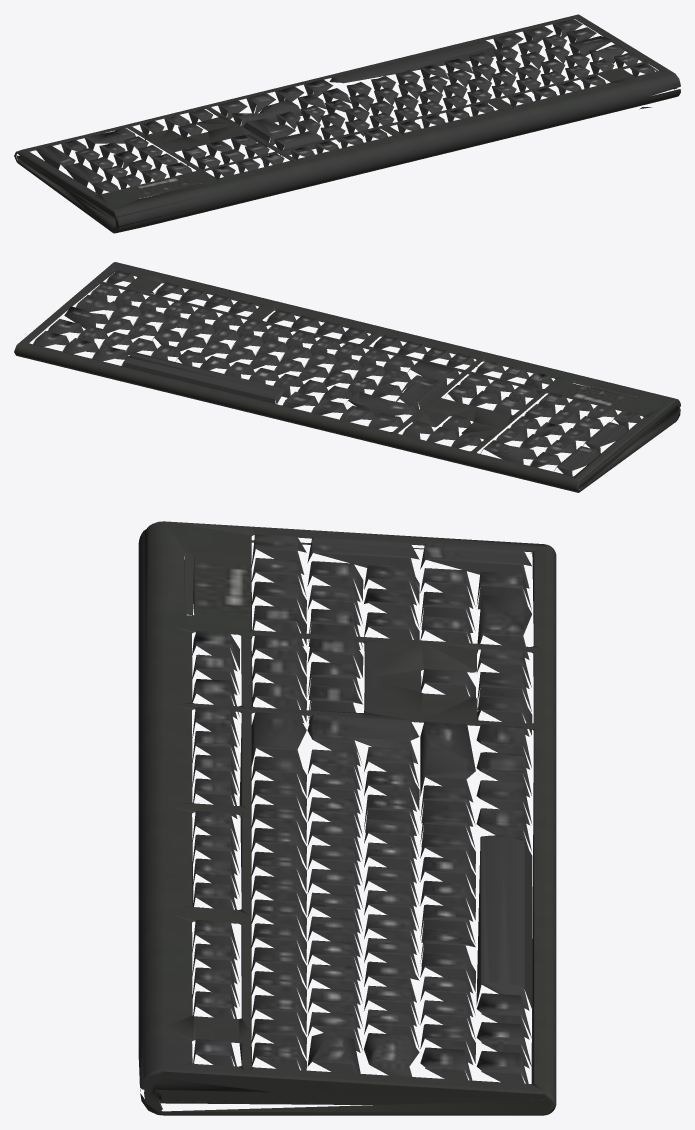
Rendered from computer_keyboard_a01.glb.
The picture shows the model from 3 angles, top to bottom: view 1: azimuth 30°, elevation 25°; view 2: azimuth 150°, elevation 25°; view 3: azimuth 270°, elevation 25°; orthographic projection. The views are drawn at different scales.
Visible parts, largest first — view 1: sm_computer_keyboard_a01_01; view 2: sm_computer_keyboard_a01_01; view 3: sm_computer_keyboard_a01_01.
Boxes of the visible parts, x1=… form: sm_computer_keyboard_a01_01: x1=14, y1=14, x2=680, y2=233; sm_computer_keyboard_a01_01: x1=14, y1=262, x2=680, y2=492; sm_computer_keyboard_a01_01: x1=138, y1=521, x2=556, y2=1115.
Size of the model in its own units: 0.4425 by 0.0203 by 0.142.
1 material, 1 textured.
